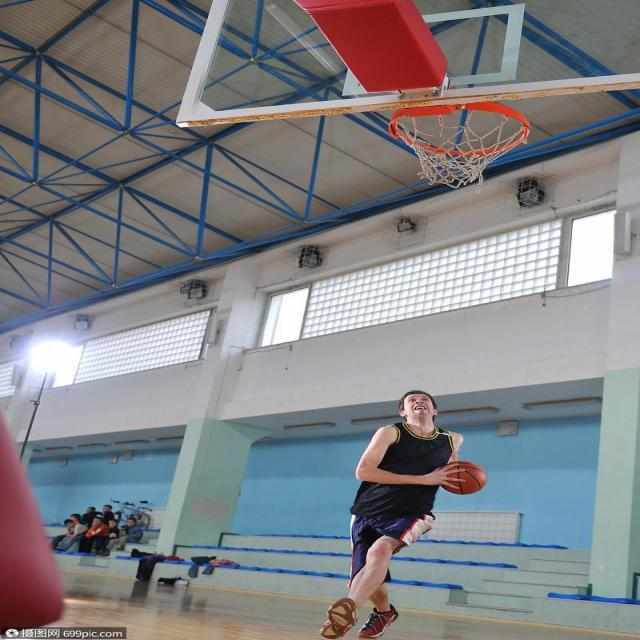rim: (432, 461, 484, 496)
